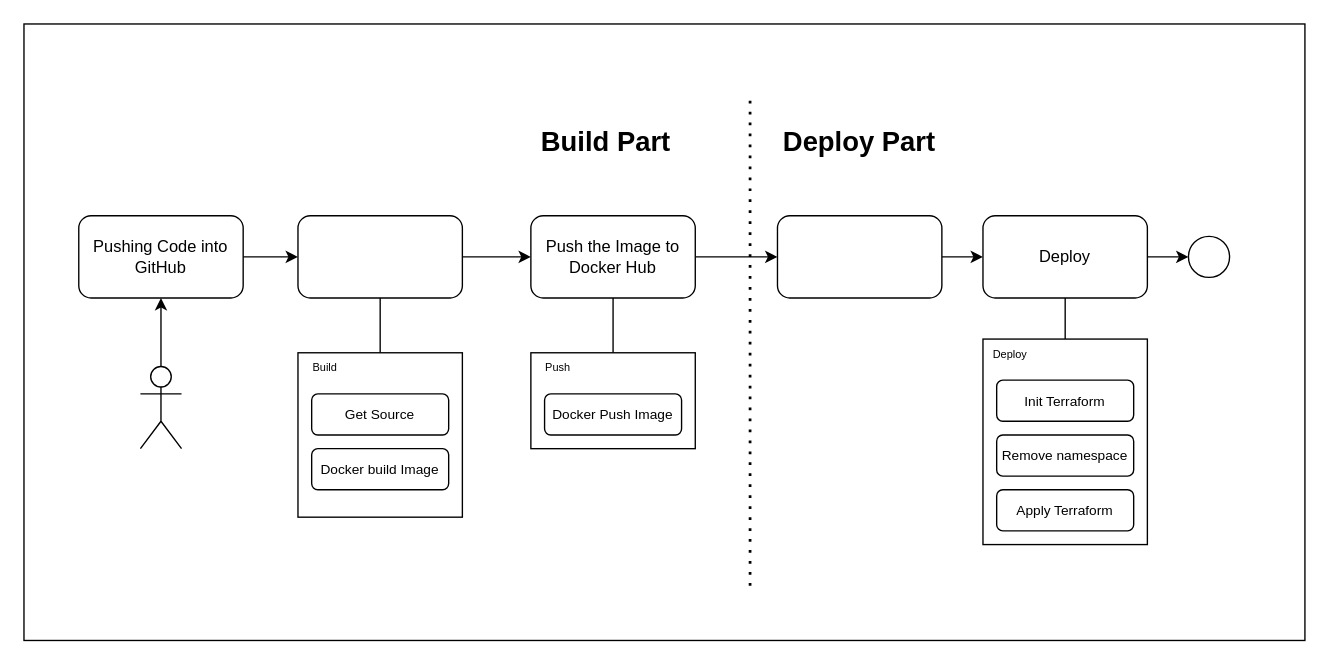
The diagram is 1329 pixels wide and 664 high, and some of its shapes have lost their labels. Here are the shapes that lost their labels. From the top down, the centre of each, then its label:
At point (379, 256): "Build Jobs".
At point (859, 256): "Pull Image from Docker Hub".
At point (1208, 256): "End".
At point (160, 407): "Start".
